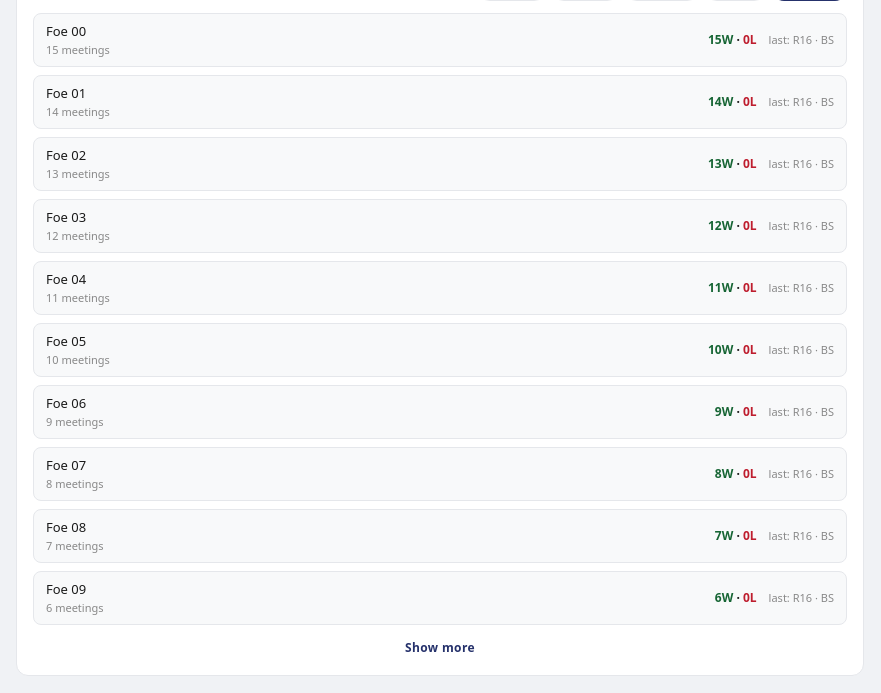
it: PlayerProfileView › collapses opponents to top 10 with a Show more toggle
(page scrolled)
Expected: the text "Foe 00" is shown, x1=46 y1=22 x2=86 y2=40
Expected: the text "Foe 09" is shown, x1=46 y1=580 x2=86 y2=598
// Show more click → all 15 visible.
Step 1. Click the button "Show more" → click(440, 648), box x1=393 y1=635 x2=487 y2=661
(page scrolled)
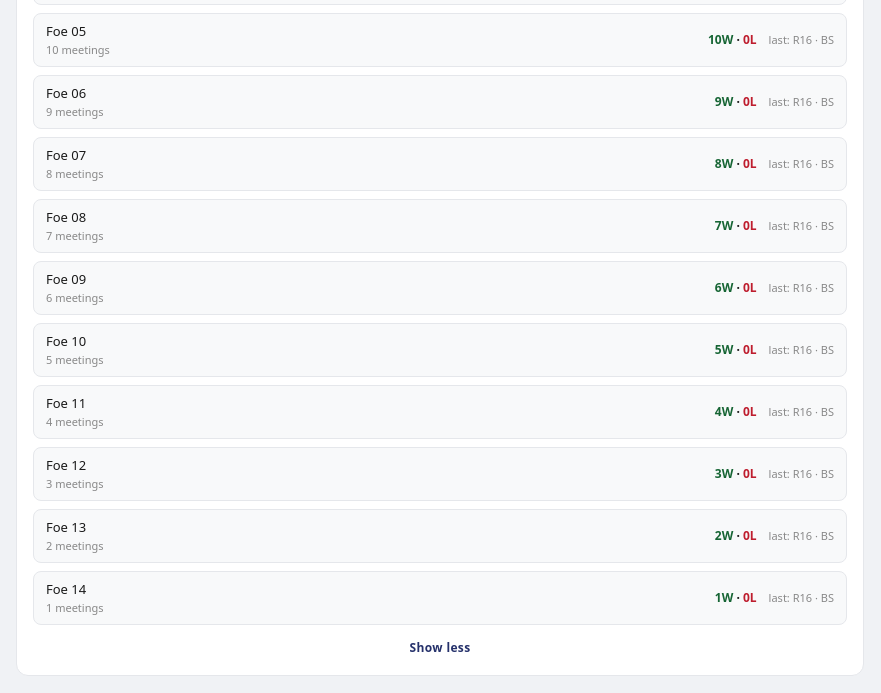
Now the text "Foe 14" is shown, box x1=46 y1=580 x2=86 y2=598
Now the button "Show less" is shown, box x1=398 y1=635 x2=482 y2=661
